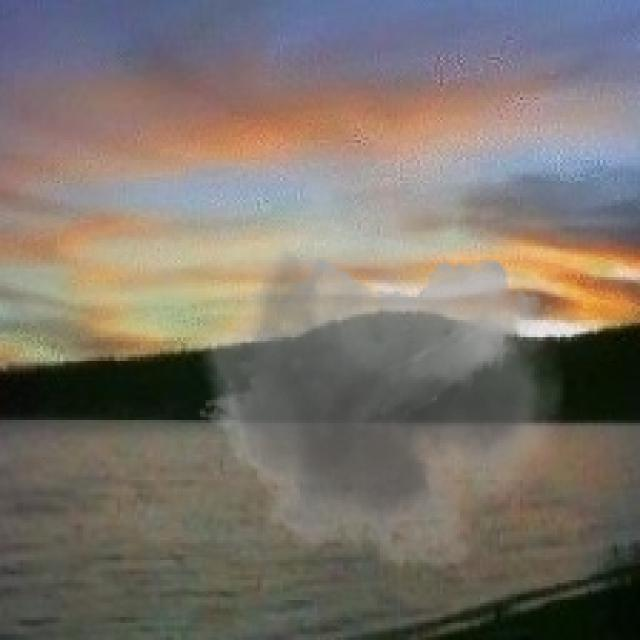Smoke: (185, 174, 566, 589)
